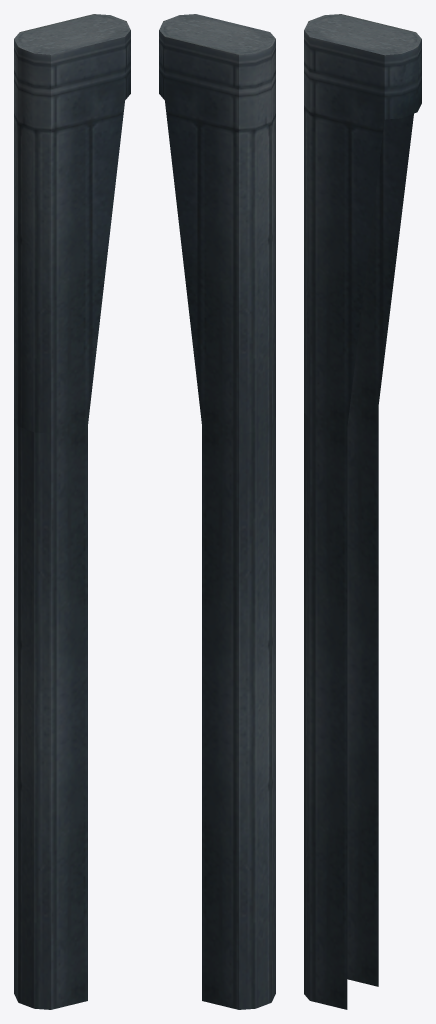
Rendered from tlfb2_zhuzi04.FBX.
The picture shows the model from 3 angles, left to right: view 1: azimuth 30°, elevation 25°; view 2: azimuth 150°, elevation 25°; view 3: azimuth 330°, elevation 25°; orthographic projection.
Visible parts, largest first — view 1: tlfb2_zhuzi04; view 2: tlfb2_zhuzi04; view 3: tlfb2_zhuzi04.
Part boxes in pixels (box(x1,y1,x2,y2)): tlfb2_zhuzi04: box(14, 14, 130, 1009); tlfb2_zhuzi04: box(159, 14, 275, 1009); tlfb2_zhuzi04: box(304, 14, 421, 1009).
Bounding box in the file's own units: 240 × 2024 × 120.
